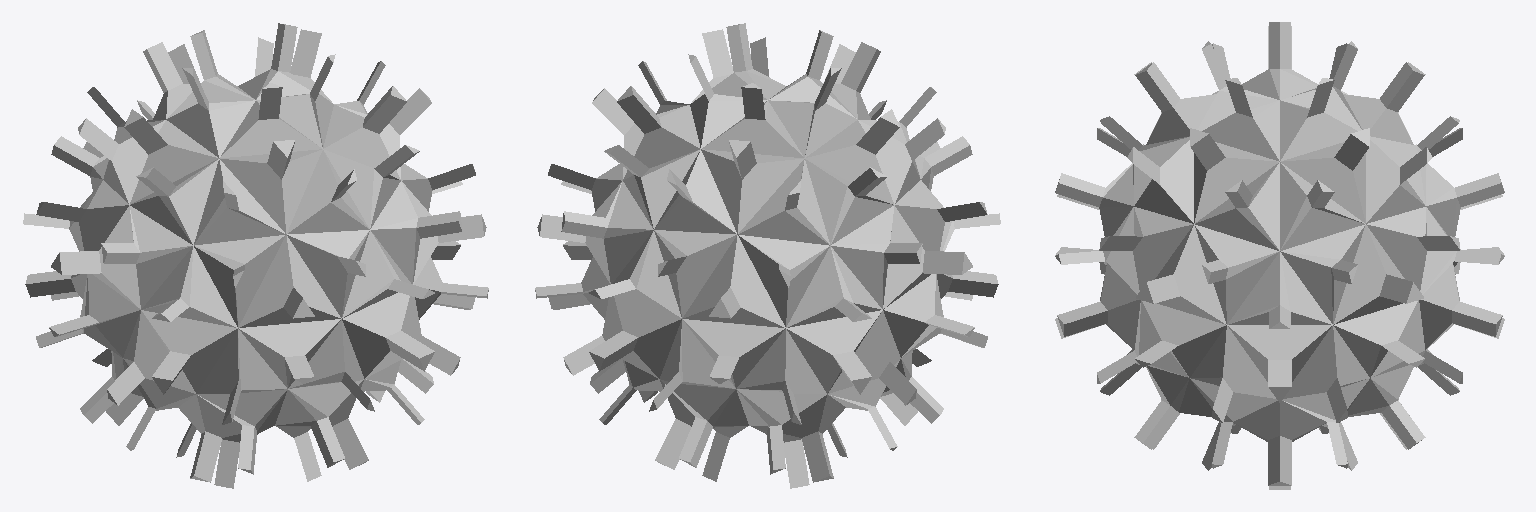
File: iso3.obj
3 views of the same model, side by side, from view 1: azimuth 30°, elevation 25°; view 2: azimuth 150°, elevation 25°; view 3: azimuth 270°, elevation 25° (orthographic).
Visible parts, largest first — view 1: Icosphere_Icosphere.001; view 2: Icosphere_Icosphere.001; view 3: Icosphere_Icosphere.001.
Part boxes in pixels (x1,y1,x2,y2): Icosphere_Icosphere.001: (23,23,488,488); Icosphere_Icosphere.001: (535,23,1000,488); Icosphere_Icosphere.001: (1055,22,1504,489).
Bounding box in the file's own units: 2.72 × 2.61 × 2.62.